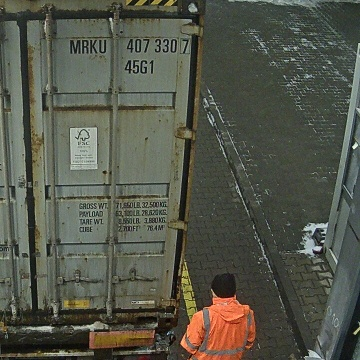serial_id: (70, 39, 189, 53)
